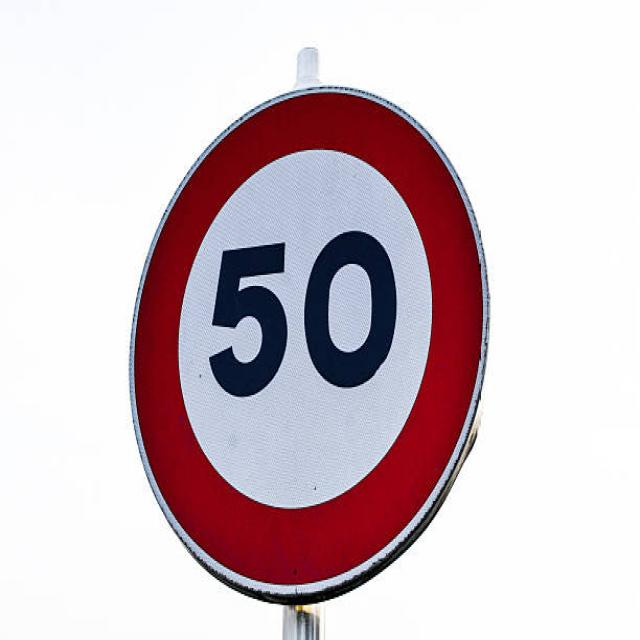speed_limit_50: (122, 66, 504, 608)
